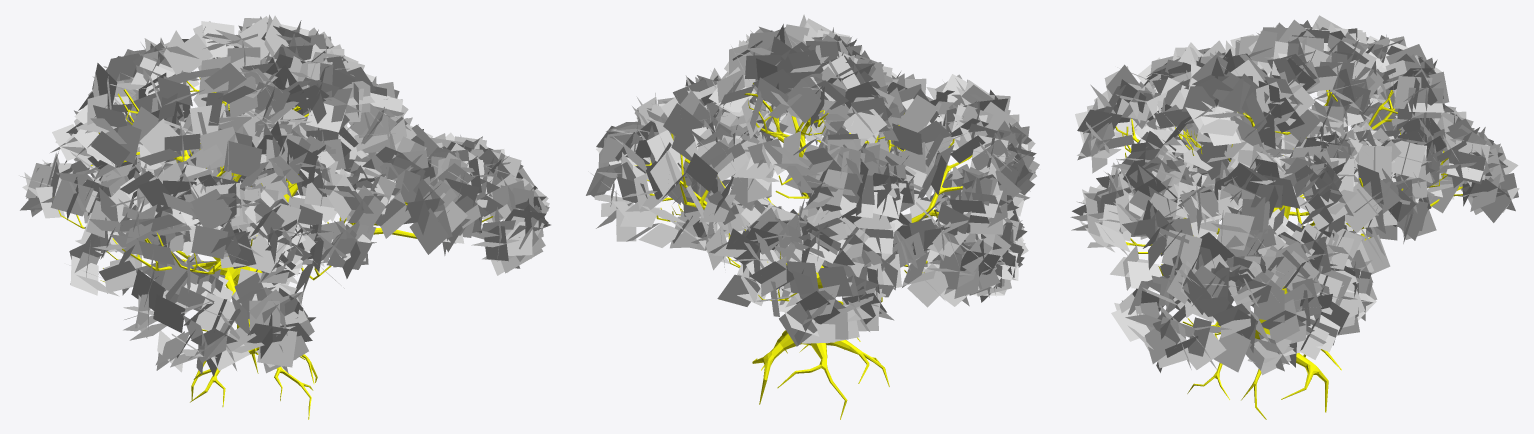
The model's file is tree_oak.glb.
3 views of the same model, side by side, from view 1: azimuth 30°, elevation 25°; view 2: azimuth 150°, elevation 25°; view 3: azimuth 270°, elevation 25° (orthographic). The views are drawn at different scales.
Parts seen in each view (by area): view 1: Oak_LOD0, SM_Oak_LOD0; view 2: Oak_LOD0, SM_Oak_LOD0; view 3: Oak_LOD0, SM_Oak_LOD0.
Boxes of the visible parts, x1,y1,x2,y2 form: Oak_LOD0: (19,14,550,376); SM_Oak_LOD0: (58,77,493,419); Oak_LOD0: (586,14,1039,346); SM_Oak_LOD0: (634,83,972,419); Oak_LOD0: (1070,15,1519,375); SM_Oak_LOD0: (1115,90,1462,419).
Bounding box in the file's own units: 18.09 × 14.83 × 16.02.
